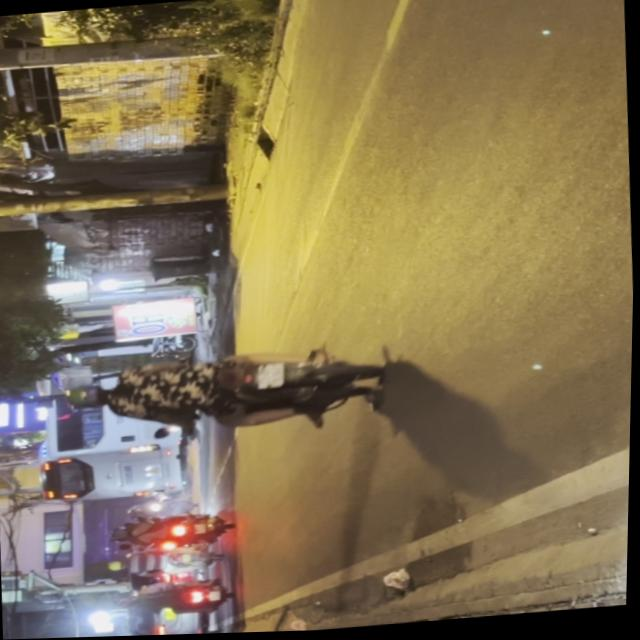helmet: (65, 382, 113, 411)
licenseplate: (60, 339, 386, 447)
nohelmet: (257, 363, 284, 390)
